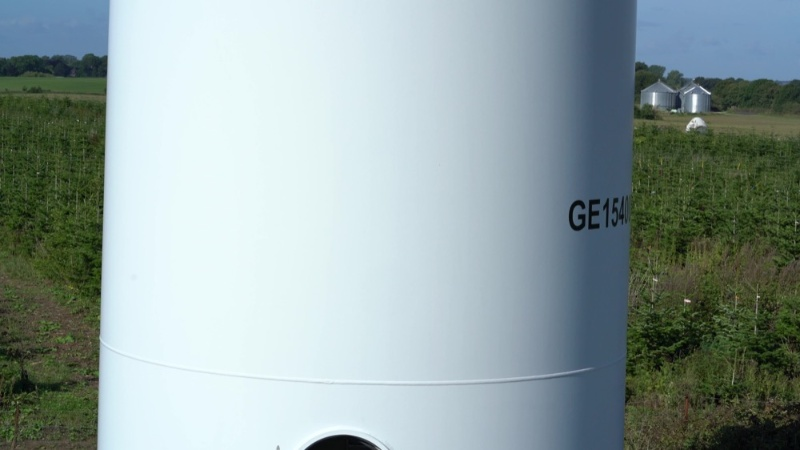weldseam: (98, 335, 628, 391)
